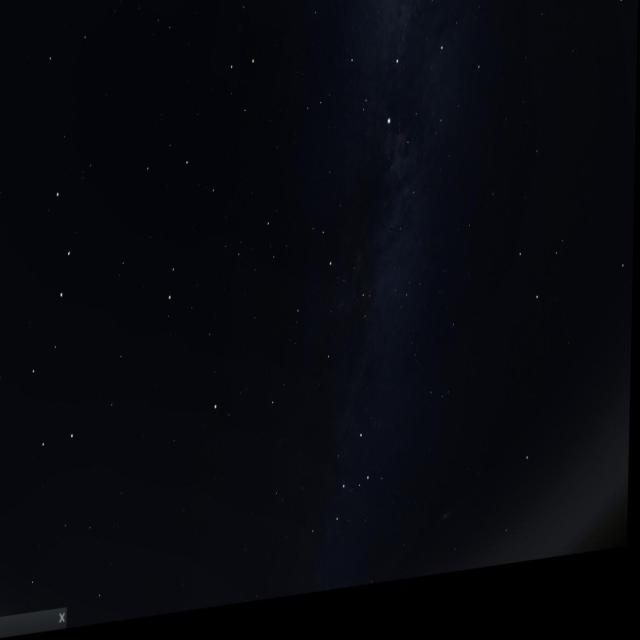cassiopeia: (312, 429, 386, 554)
cygnus: (344, 0, 452, 168)
ursa_major: (18, 150, 92, 465)
